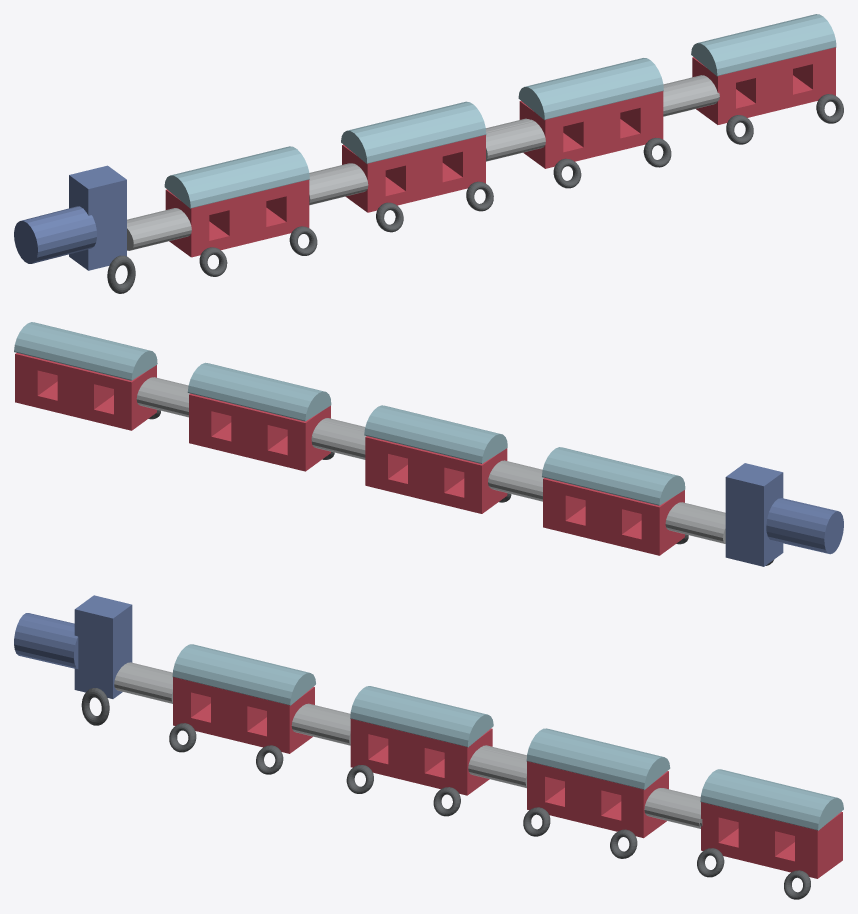
Rendered from Train In The Desert.glb.
3 renders of one model, top to bottom at view 1: azimuth 30°, elevation 25°; view 2: azimuth 150°, elevation 25°; view 3: azimuth 330°, elevation 25°, orthographic.
Parts seen in each view (by area): view 1: Mesh_Mesh_head_geo.001_lambert2SG.001; view 2: Mesh_Mesh_head_geo.001_lambert2SG.001; view 3: Mesh_Mesh_head_geo.001_lambert2SG.001.
Boxes of the visible parts, <box> form: Mesh_Mesh_head_geo.001_lambert2SG.001: <box>14,14,843,293</box>; Mesh_Mesh_head_geo.001_lambert2SG.001: <box>14,322,843,566</box>; Mesh_Mesh_head_geo.001_lambert2SG.001: <box>14,595,843,899</box>.
Size of the model in its own units: 418 by 53.31 by 38.01.
